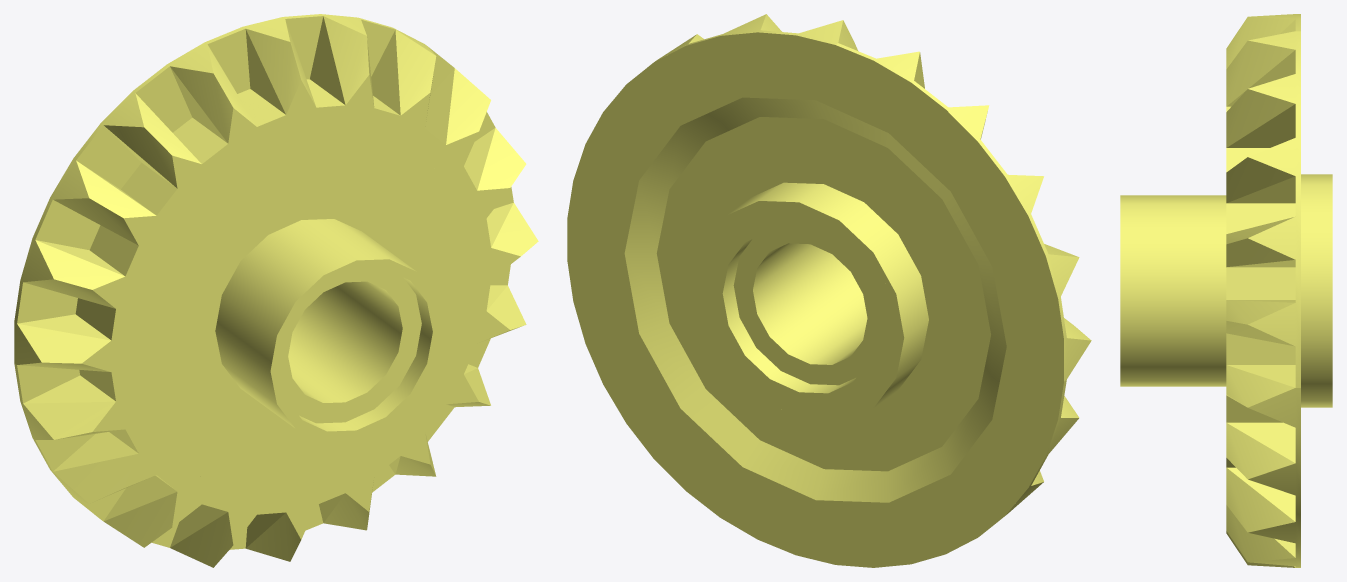
3 views of the same model, side by side, from view 1: azimuth 30°, elevation 25°; view 2: azimuth 150°, elevation 25°; view 3: azimuth 270°, elevation 25° (orthographic). The views are drawn at different scales.
Parts seen in each view (by area): view 1: 87407.dat; view 2: 87407.dat; view 3: 87407.dat.
Boxes of the visible parts, x1,y1,x2,y2 form: 87407.dat: (14,14,538,567); 87407.dat: (567,14,1091,567); 87407.dat: (1120,14,1332,567).
Size of the model in its own units: 0.0208 by 0.0208 by 0.008.
